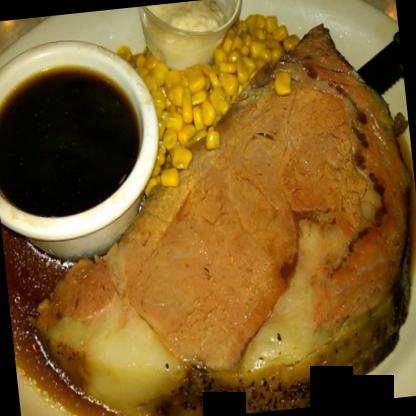beef: (13, 15, 415, 415)
